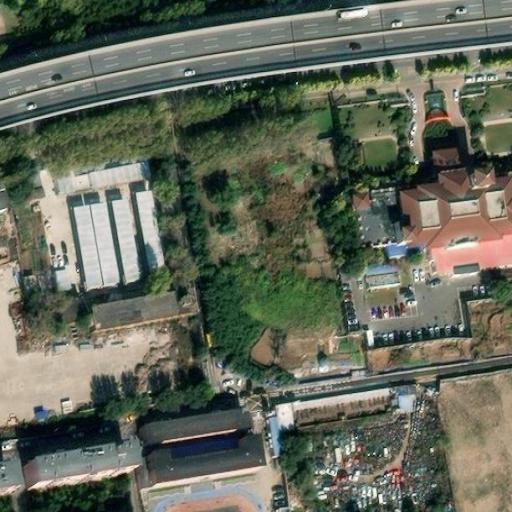building: (399, 165, 512, 247), (151, 434, 271, 485), (86, 292, 196, 340), (24, 449, 133, 492), (72, 200, 122, 292), (147, 406, 254, 443), (53, 160, 147, 196), (433, 234, 512, 275), (111, 199, 146, 286), (353, 186, 404, 245), (136, 188, 168, 273), (422, 87, 450, 121), (364, 263, 399, 286), (392, 383, 417, 412), (274, 401, 297, 432), (267, 411, 282, 458), (432, 146, 460, 170), (50, 261, 74, 289), (386, 240, 423, 257), (0, 462, 17, 491), (0, 184, 13, 210)
